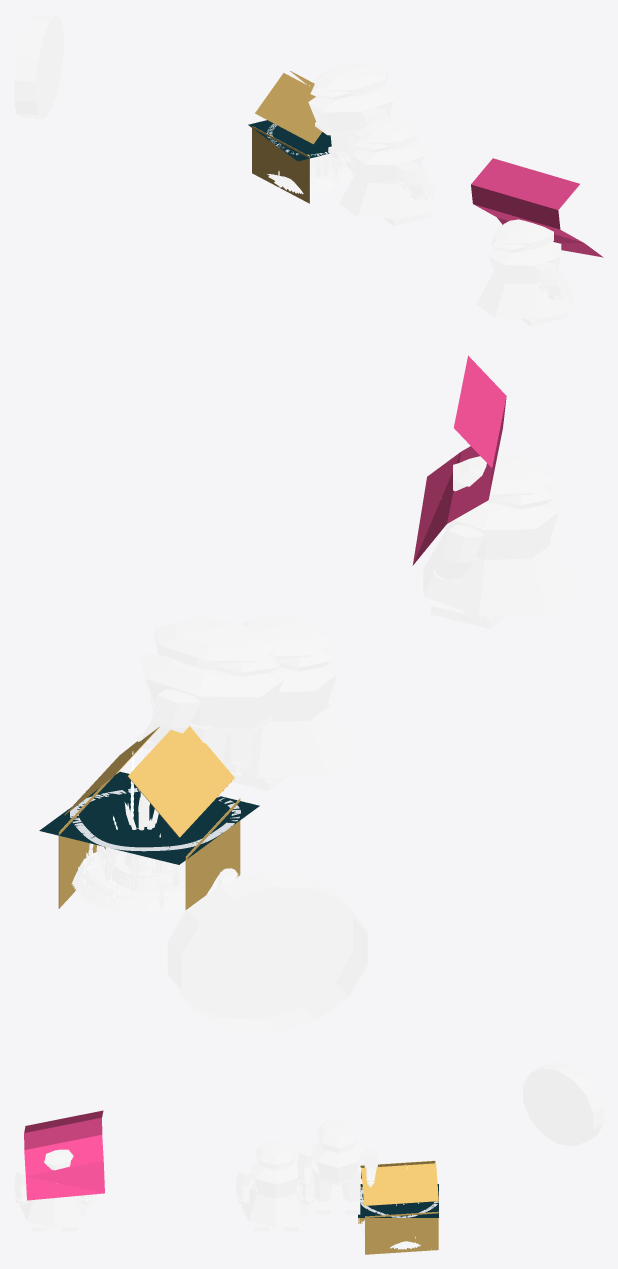
The model's file is ile-cristal-v5.glb.
3 renders of one model, top to bottom at view 1: azimuth 30°, elevation 25°; view 2: azimuth 150°, elevation 25°; view 3: azimuth 270°, elevation 25°, orthographic. The views are drawn at different scales.
Visible parts, largest first — view 1: ile_copie0.018, ile_anime1.030, ile_banniere0.016, ile_anime2.030, ile_vitres.020, ile_anime0.030, ile_corps.030, ile_libre0.028; view 2: ile_anime0.030, ile_anime1.030, ile_anime2.030, ile_copie0.018, ile_vitres.020, ile_libre0.028, ile_banniere0.016, ile_corps.030; view 3: ile_banniere0.016, ile_vitres.020, ile_anime0.030, ile_copie0.018, ile_anime2.030, ile_anime1.030, ile_libre0.028.
Part boxes in pixels (bbox=[...]): ile_copie0.018: bbox=[339, 117, 435, 226]; ile_anime1.030: bbox=[476, 219, 572, 326]; ile_banniere0.016: bbox=[471, 158, 603, 257]; ile_anime2.030: bbox=[308, 63, 396, 172]; ile_vitres.020: bbox=[252, 71, 322, 203]; ile_anime0.030: bbox=[14, 14, 63, 118]; ile_corps.030: bbox=[267, 85, 355, 196]; ile_libre0.028: bbox=[248, 120, 331, 161]; ile_anime0.030: bbox=[167, 873, 367, 1033]; ile_anime1.030: bbox=[423, 453, 578, 628]; ile_anime2.030: bbox=[134, 617, 283, 773]; ile_copie0.018: bbox=[230, 615, 357, 790]; ile_vitres.020: bbox=[58, 725, 240, 910]; ile_libre0.028: bbox=[39, 771, 259, 864]; ile_banniere0.016: bbox=[412, 355, 506, 565]; ile_corps.030: bbox=[71, 752, 238, 914]; ile_banniere0.016: bbox=[24, 1110, 104, 1200]; ile_vitres.020: bbox=[358, 1160, 438, 1254]; ile_anime0.030: bbox=[523, 1062, 603, 1146]; ile_copie0.018: bbox=[235, 1141, 314, 1231]; ile_anime2.030: bbox=[297, 1119, 377, 1214]; ile_anime1.030: bbox=[14, 1149, 93, 1231]; ile_libre0.028: bbox=[358, 1184, 438, 1217].
Bounding box in the file's own units: 6.38 × 3.41 × 14.58.
